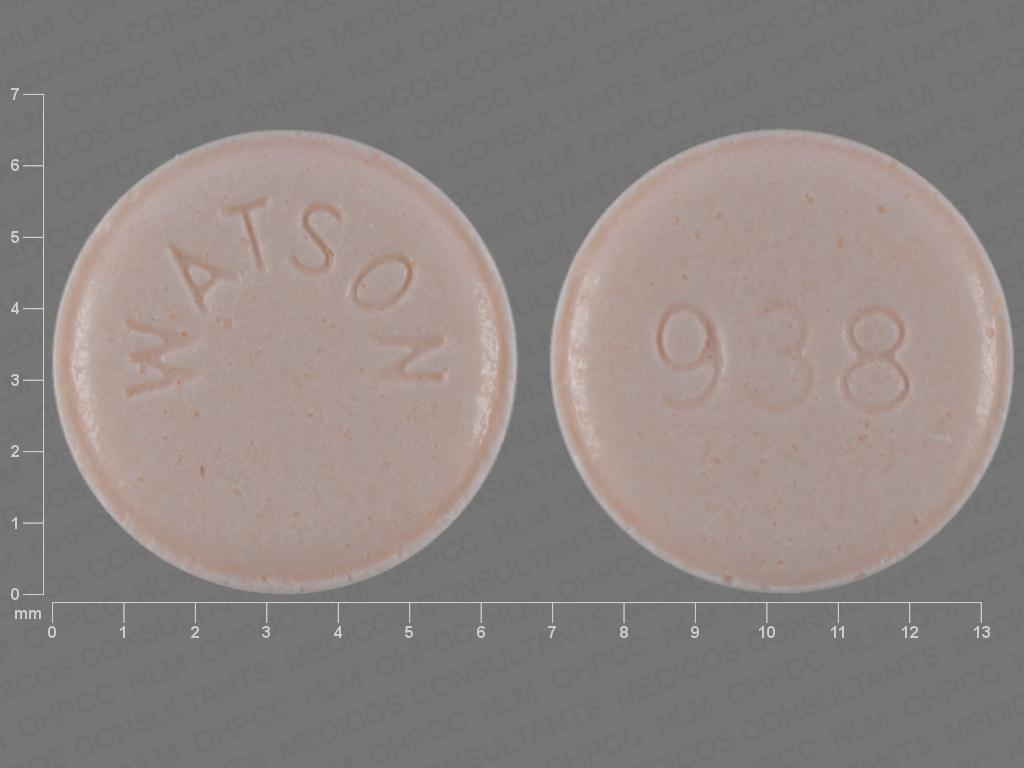Pill: (540, 121, 1024, 599), (47, 124, 526, 600)
